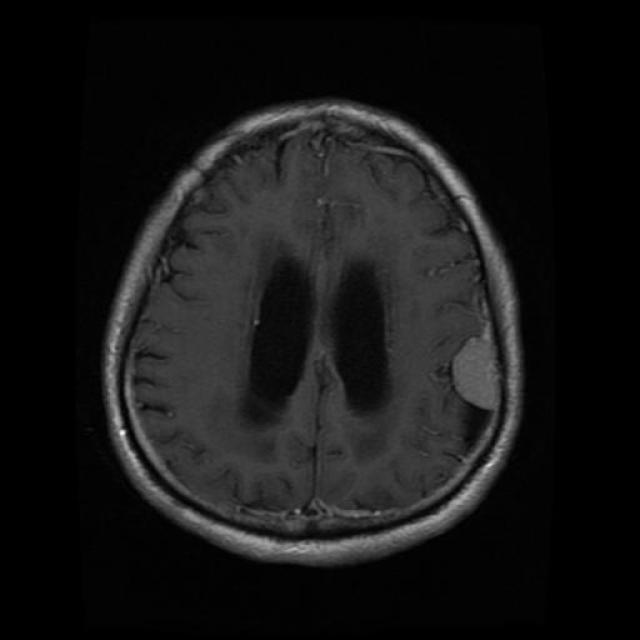Tumor: (454, 328, 508, 417)
